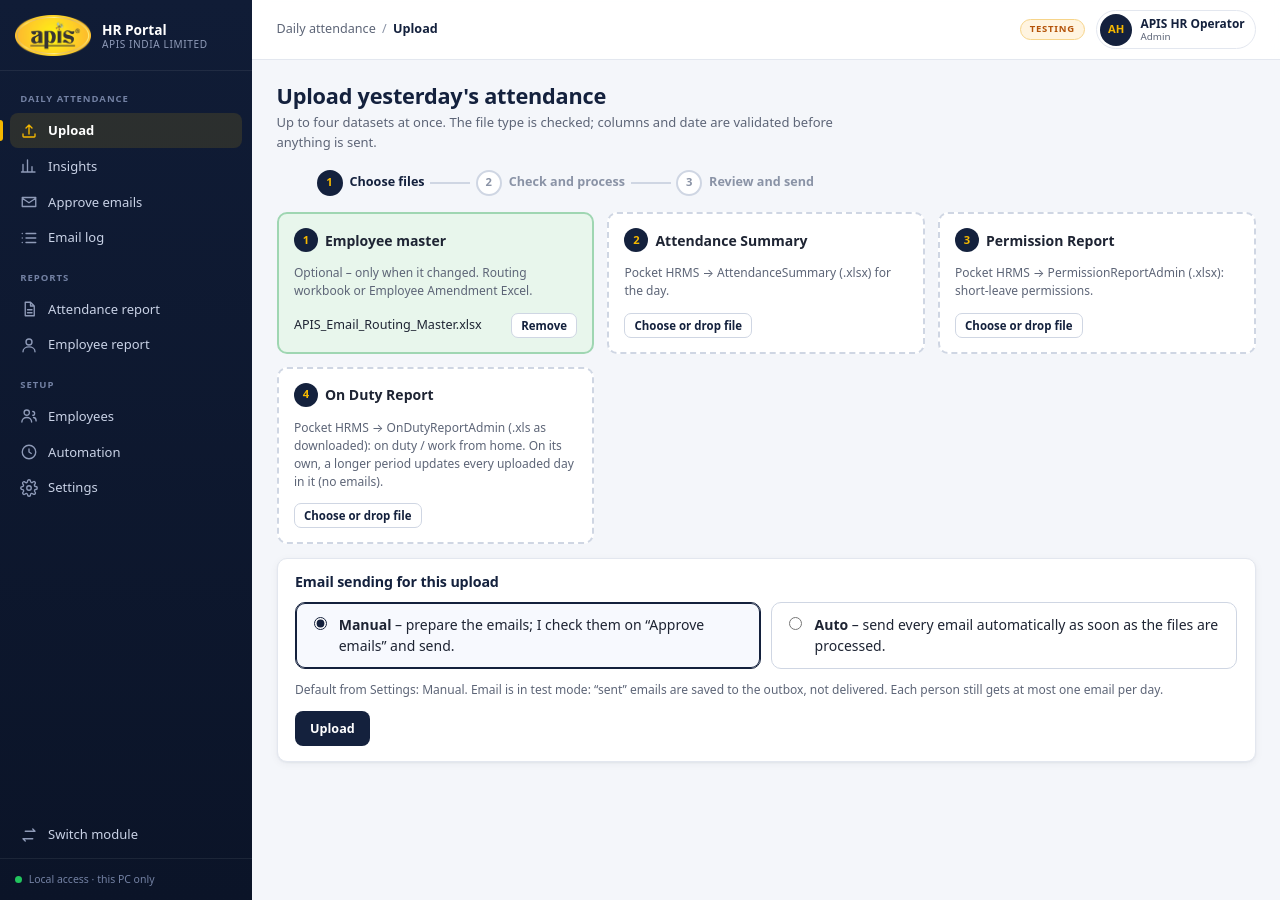
Scenario: upload: auto mode sends at once and master-only upload just updates the employees
The image size is (1280, 900).
Earlier steps of the test are not shown.
Later steps or results of the test are not shown.
Click the button "Upload".
click(332, 728)  # box [295,711,370,746]
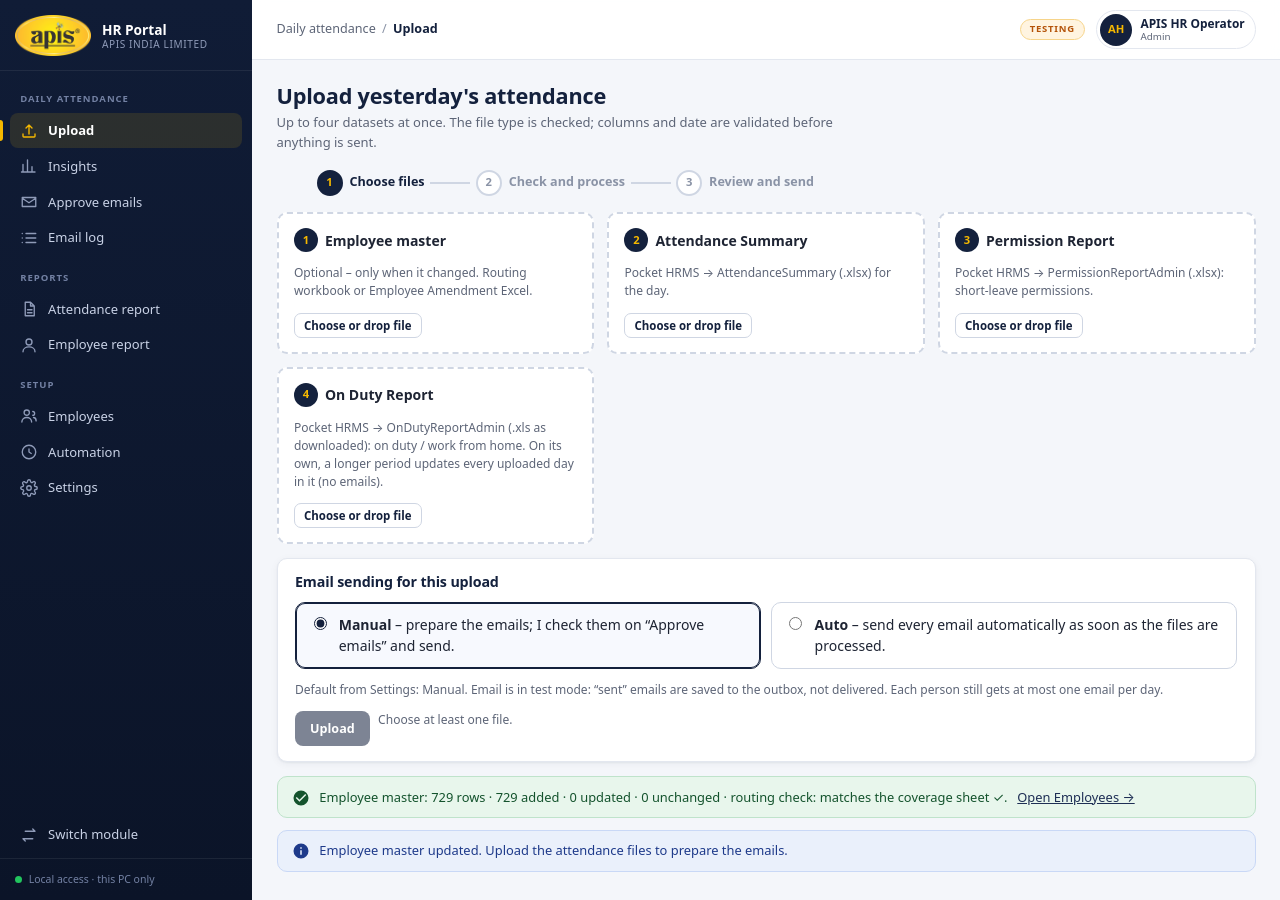
expect the text "729 added" is shown: met, box [276,776,1256,818]
expect the text "matches the coverage sheet" is shown: met, box [720,788,1004,806]
